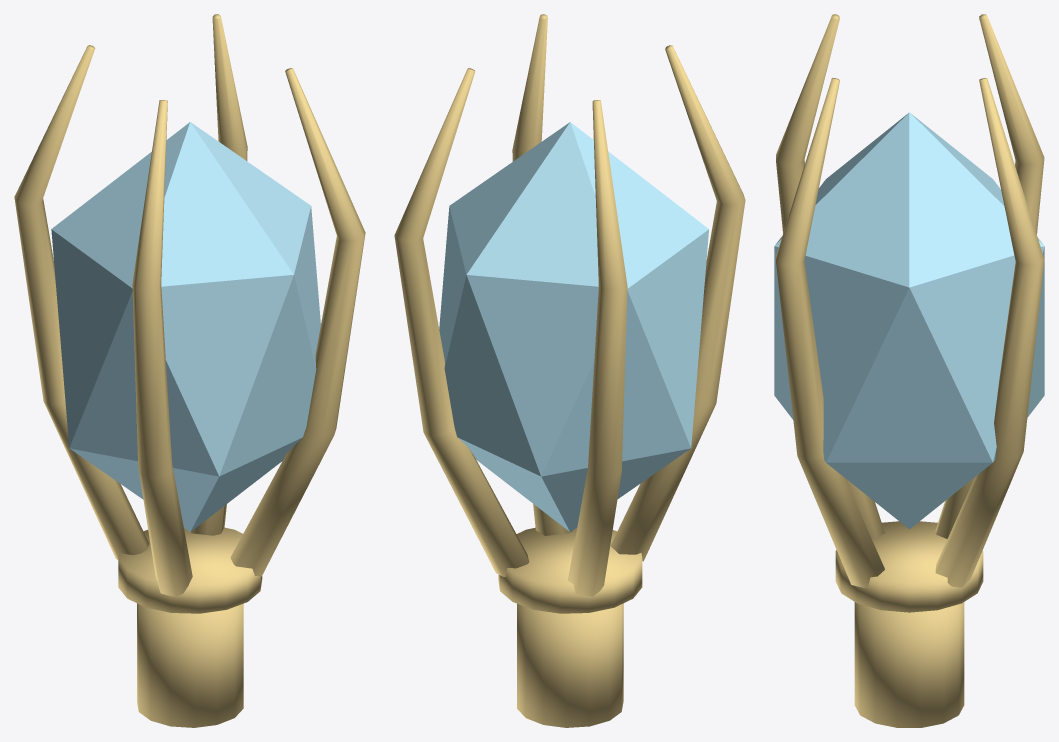
The model's file is w_fokus.glb.
3 views of the same model, side by side, from view 1: azimuth 30°, elevation 25°; view 2: azimuth 150°, elevation 25°; view 3: azimuth 270°, elevation 25° (orthographic).
Parts seen in each view (by area): view 1: G_w_fokus; view 2: G_w_fokus; view 3: G_w_fokus.
Boxes of the visible parts, x1,y1,x2,y2 form: G_w_fokus: (14,14,365,727); G_w_fokus: (394,14,745,727); G_w_fokus: (774,14,1044,727).
Bounding box in the file's own units: 0.1038 × 0.2655 × 0.0987.
